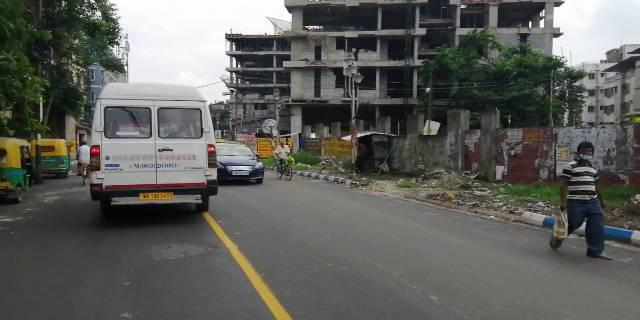Autorickshaw: (1, 135, 37, 206), (35, 136, 73, 182)
Car: (214, 138, 266, 188)
Cycle: (270, 137, 297, 184)
Van: (86, 79, 222, 225)
